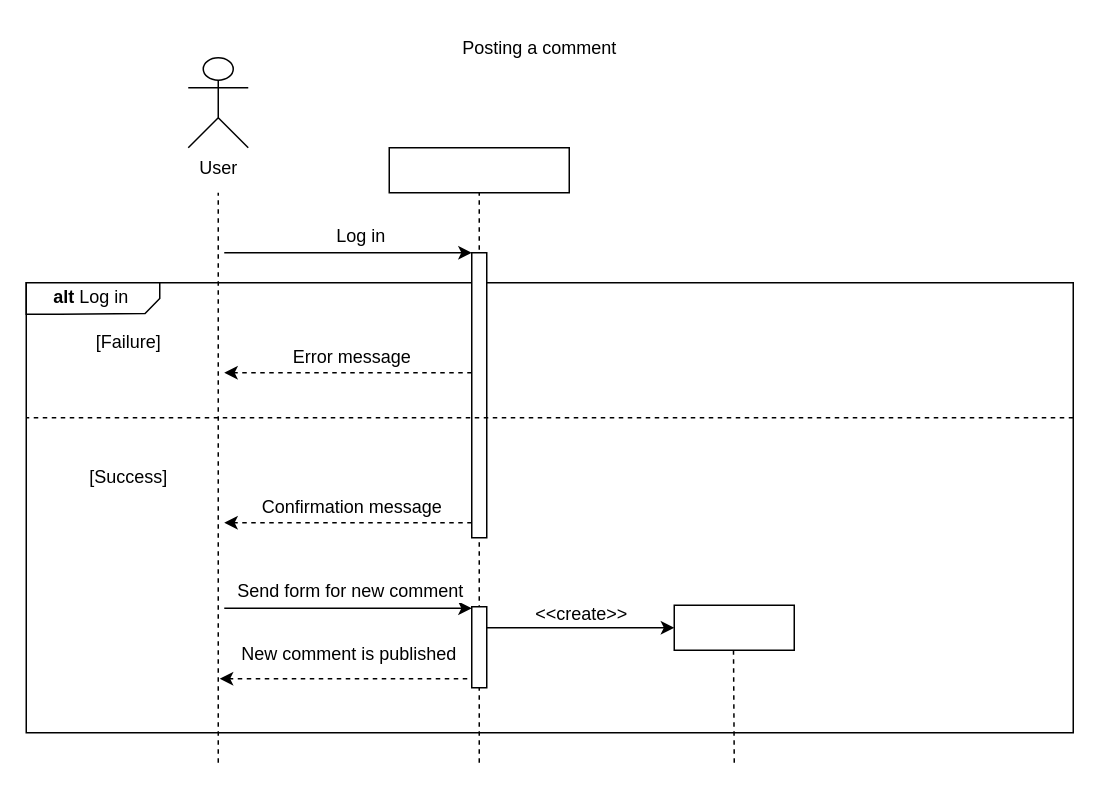
Some shapes in this 1101 by 791 pixel diagram are drawn without their labels. Here are the shapes that lost their labels. From the top down, the centre of each, then its label:
At point 478,169: ":System".
At point 733,627: ":Comment".
